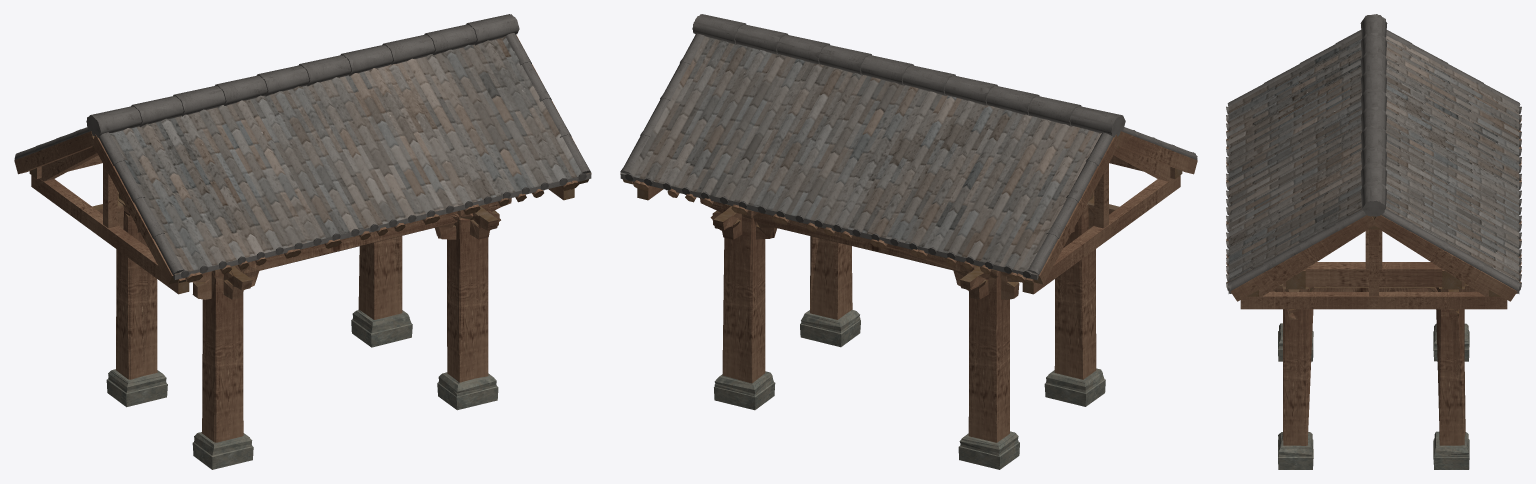
File: CourtGatehouse.fbx
3 views of the same model, side by side, from view 1: azimuth 30°, elevation 25°; view 2: azimuth 150°, elevation 25°; view 3: azimuth 270°, elevation 25° (orthographic). The views are drawn at different scales.
Visible parts, largest first — view 1: CourtGatehouse_Tier0, CourtGatehouse_Tier1, CourtGatehouse_Tier2; view 2: CourtGatehouse_Tier1, CourtGatehouse_Tier0, CourtGatehouse_Tier2; view 3: CourtGatehouse_Tier0, CourtGatehouse_Tier1, CourtGatehouse_Tier2.
Part boxes in pixels (bbox=[...]): CourtGatehouse_Tier0: bbox=[14, 14, 591, 469]; CourtGatehouse_Tier1: bbox=[14, 14, 591, 455]; CourtGatehouse_Tier2: bbox=[32, 17, 587, 292]; CourtGatehouse_Tier1: bbox=[620, 14, 1197, 455]; CourtGatehouse_Tier0: bbox=[620, 15, 1197, 469]; CourtGatehouse_Tier2: bbox=[621, 14, 1194, 292]; CourtGatehouse_Tier0: bbox=[1226, 14, 1521, 469]; CourtGatehouse_Tier1: bbox=[1226, 15, 1521, 457]; CourtGatehouse_Tier2: bbox=[1239, 19, 1515, 309].
Size of the model in its own units: 7.26 by 5.47 by 4.88.
3 materials, 3 textured.
